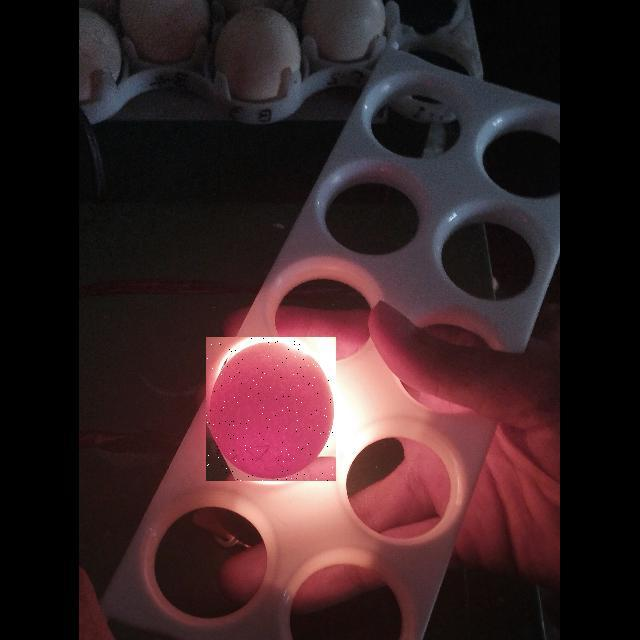Infertile: (206, 337, 336, 481)
